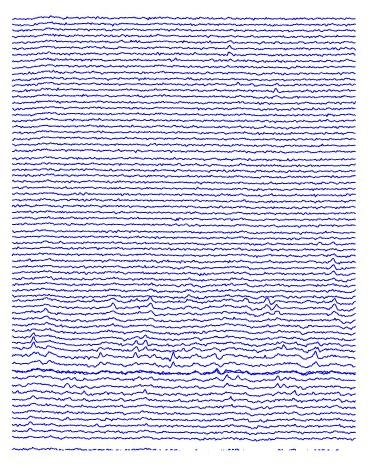defect: (326, 250, 344, 325), (213, 365, 242, 405), (251, 293, 285, 318), (120, 334, 150, 361), (304, 341, 324, 370), (165, 348, 182, 374), (143, 291, 157, 315), (25, 331, 42, 349)
